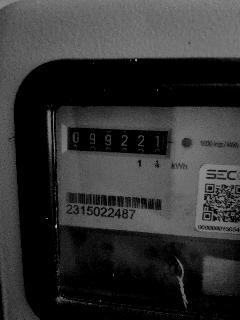1: (73, 133, 79, 144)
2: (155, 137, 162, 148)
3: (138, 135, 144, 147), (121, 136, 127, 147)
:: (90, 134, 96, 145), (105, 135, 111, 146)
